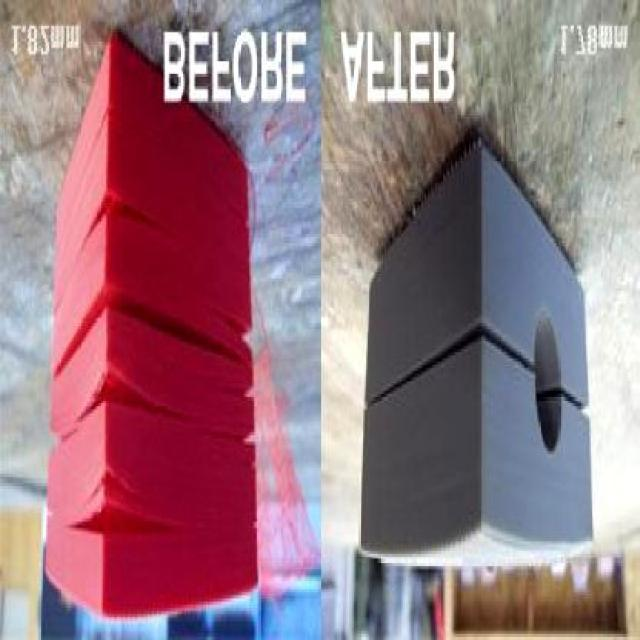cracks: (378, 279, 528, 415), (63, 274, 197, 348), (62, 482, 200, 546), (72, 356, 178, 436), (74, 185, 180, 262), (206, 292, 262, 405), (83, 93, 160, 170), (569, 351, 602, 446), (199, 419, 263, 461), (227, 187, 261, 242)
